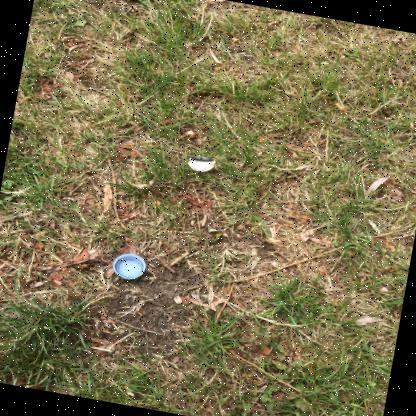Metal bottle cap: (187, 155, 215, 171)
Plastic bottle cap: (112, 253, 145, 279)
